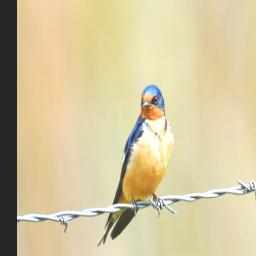Swallow: (97, 83, 175, 247)
